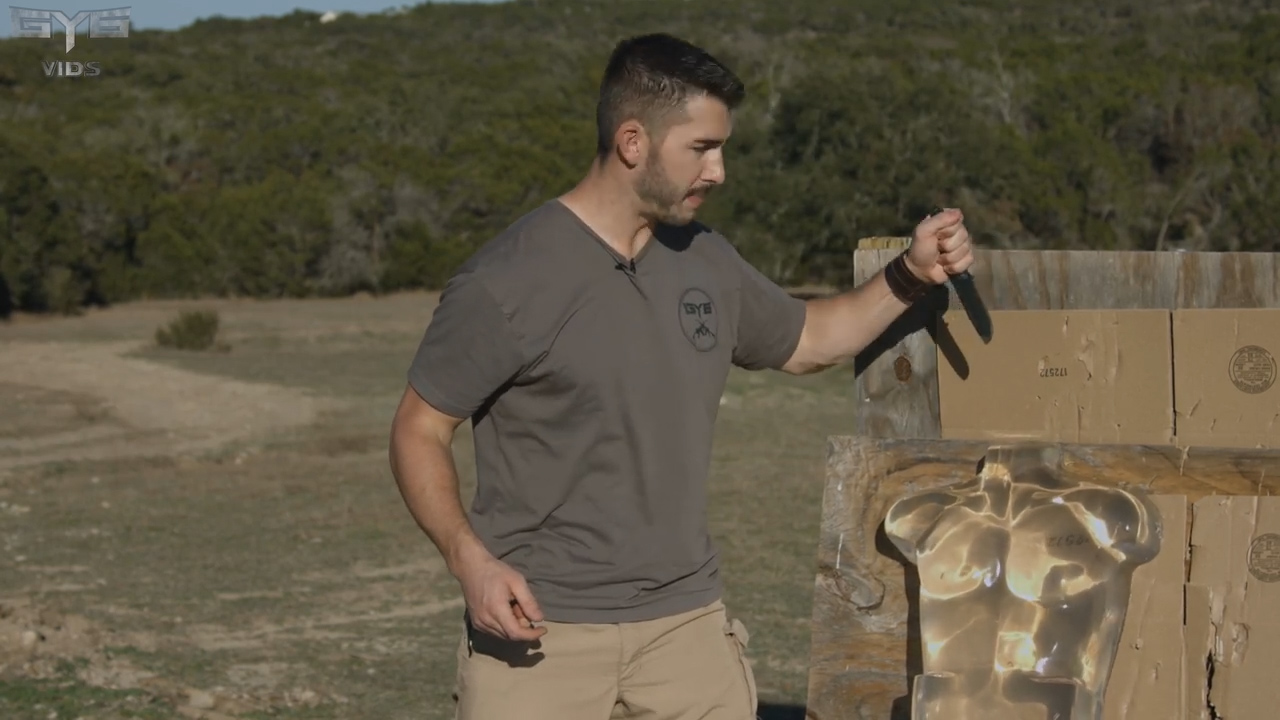knife: (912, 198, 1003, 358)
